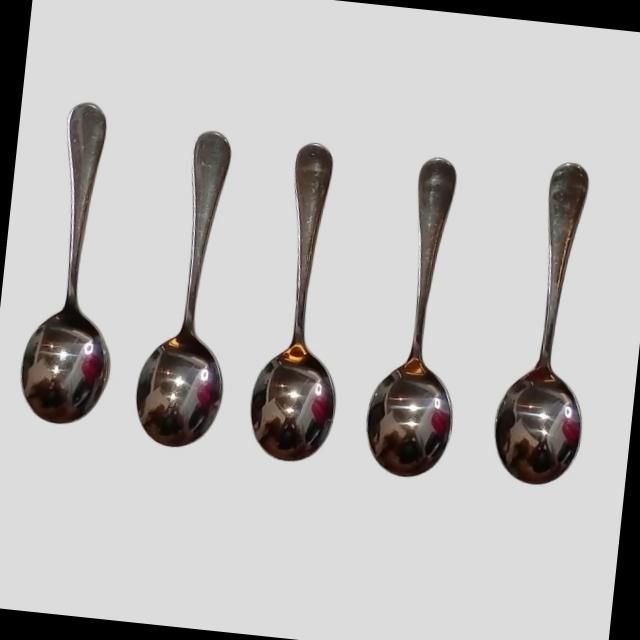spoon: (341, 128, 499, 512)
